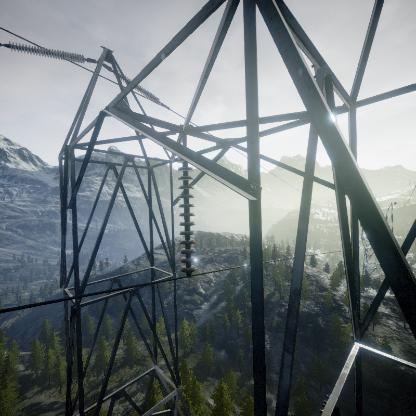insulator: (173, 155, 200, 276), (1, 38, 95, 66), (116, 70, 162, 107)
